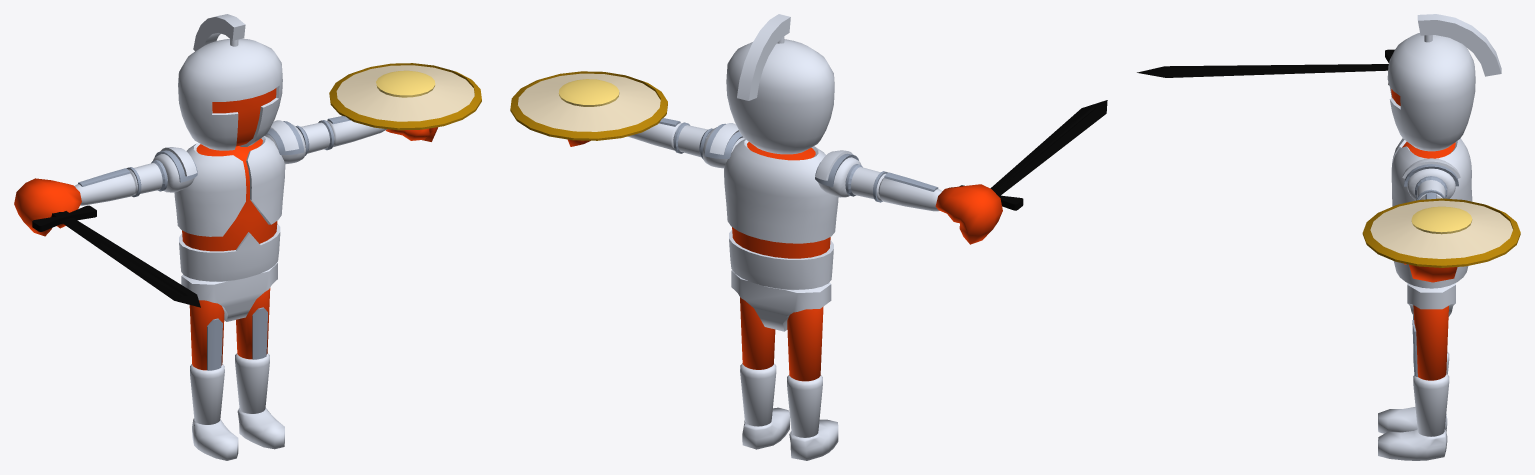
Rendered from Stickman_Knight.fbx.
The picture shows the model from 3 angles, left to right: view 1: azimuth 30°, elevation 25°; view 2: azimuth 150°, elevation 25°; view 3: azimuth 270°, elevation 25°; orthographic projection. The views are drawn at different scales.
Visible parts, largest first — view 1: Chest001, Head001, Shield001, Sword001, Pelvis001, Hand_Right001, Hip_Left004, Hip_Left001, Tibia_Left001, Tibia_Left004, Forearm_Left003, foot_right001 (+6 smaller); view 2: Chest001, Head001, Shield001, Pelvis001, Hand_Right001, Sword001, Hip_Left004, Tibia_Left001, Tibia_Left004, Hip_Left001, Forearm_Left003, Shoulder1_Left003 (+6 smaller); view 3: Head001, Shield001, Chest001, Sword001, Hip_Left001, Tibia_Left001, foot_left001, Shoulder1_Left001, Pelvis001, foot_right001, Hand_Left001, Shoulder2_Left001.
Part boxes in pixels (x1=…): Chest001: x1=174, y1=136, x2=285, y2=281; Head001: x1=178, y1=14, x2=282, y2=150; Shield001: x1=329, y1=63, x2=481, y2=130; Sword001: x1=32, y1=205, x2=200, y2=307; Pelvis001: x1=181, y1=262, x2=277, y2=321; Hand_Right001: x1=14, y1=178, x2=81, y2=236; Hip_Left004: x1=189, y1=300, x2=224, y2=370; Hip_Left001: x1=236, y1=288, x2=270, y2=359; Tibia_Left001: x1=235, y1=353, x2=269, y2=413; Tibia_Left004: x1=190, y1=364, x2=224, y2=424; Forearm_Left003: x1=74, y1=168, x2=135, y2=205; foot_right001: x1=192, y1=418, x2=238, y2=460; Chest001: x1=724, y1=139, x2=838, y2=290; Head001: x1=726, y1=14, x2=834, y2=154; Shield001: x1=510, y1=71, x2=667, y2=140; Pelvis001: x1=731, y1=270, x2=831, y2=331; Hand_Right001: x1=935, y1=184, x2=1002, y2=244; Sword001: x1=959, y1=100, x2=1107, y2=210; Hip_Left004: x1=787, y1=306, x2=823, y2=381; Tibia_Left001: x1=740, y1=363, x2=776, y2=426; Tibia_Left004: x1=787, y1=375, x2=822, y2=437; Hip_Left001: x1=740, y1=297, x2=775, y2=369; Forearm_Left003: x1=878, y1=172, x2=942, y2=211; Shoulder1_Left003: x1=815, y1=150, x2=861, y2=197; Head001: x1=1387, y1=14, x2=1501, y2=151; Shield001: x1=1362, y1=198, x2=1520, y2=267; Chest001: x1=1391, y1=138, x2=1472, y2=288; Sword001: x1=1137, y1=49, x2=1394, y2=84; Hip_Left001: x1=1412, y1=305, x2=1448, y2=380; Tibia_Left001: x1=1413, y1=373, x2=1449, y2=436; foot_left001: x1=1378, y1=429, x2=1447, y2=460; Shoulder1_Left001: x1=1402, y1=158, x2=1460, y2=200; Pelvis001: x1=1407, y1=283, x2=1455, y2=316; foot_right001: x1=1378, y1=407, x2=1447, y2=433; Hand_Left001: x1=1404, y1=263, x2=1457, y2=282; Shoulder2_Left001: x1=1415, y1=176, x2=1447, y2=200.
Size of the model in its own units: 2.15 by 1.85 by 1.51.
